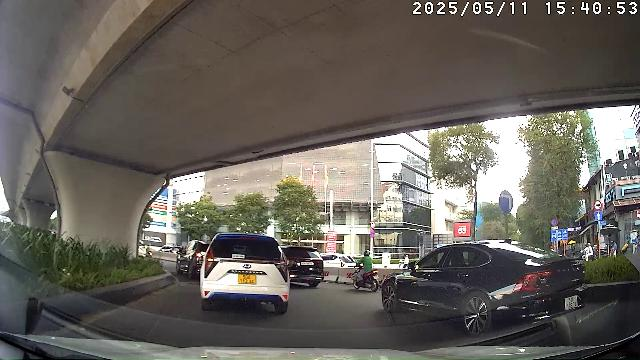301c-cac-xe-chi-duoc-re-trai: (498, 190, 514, 214)
